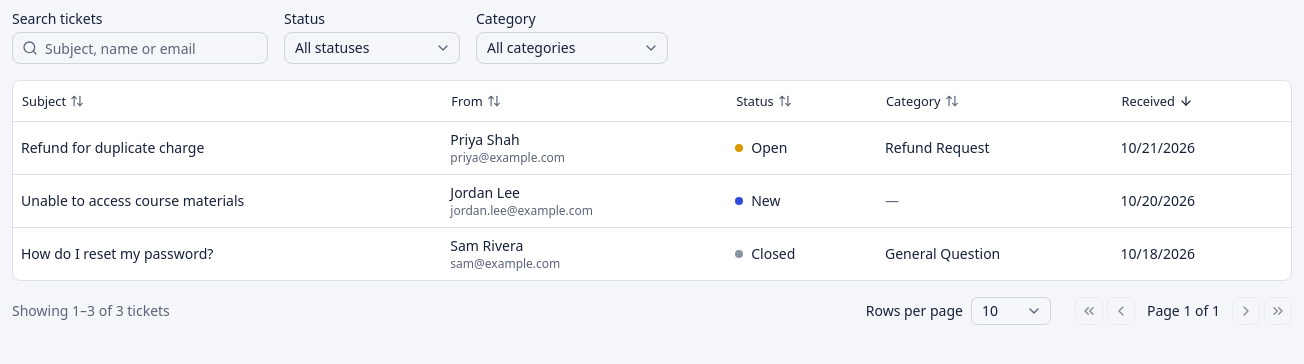
Test: TicketsTable › search › searches on the server once typing pauses and puts it in the URL
Expected: the link "Refund for duplicate charge" is shown, [21,138,204,156]
In the search field labelled "Search tickets": (140, 48) [12,32,268,64], type "Refund"
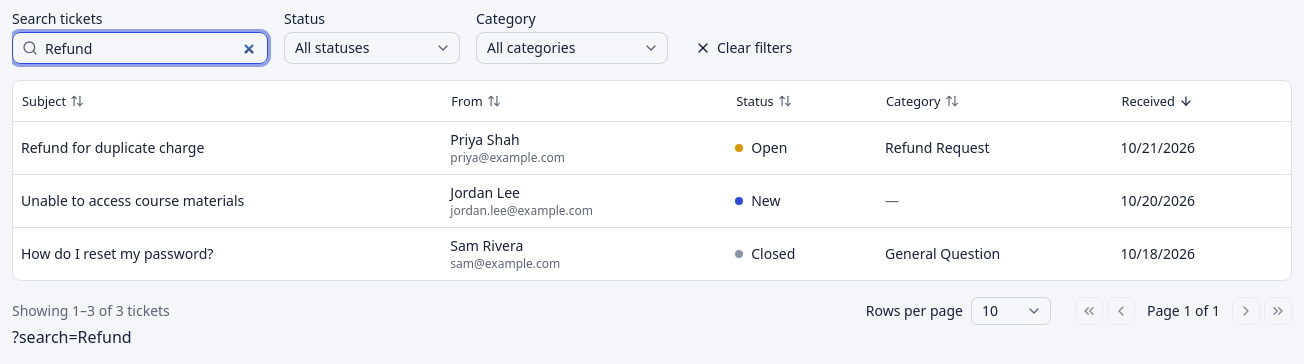
Expected: the text with test id "location-search" reads "?search=Refund", [12,326,132,348]
Expected: the button "Clear filters" is shown, [684,32,803,64]
